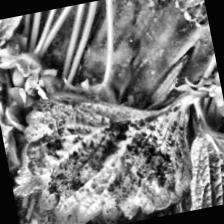Angular Leafspot: (13, 64, 211, 224)
